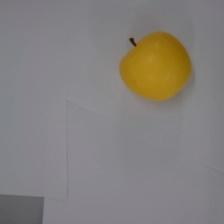yellow: (119, 30, 192, 101)
